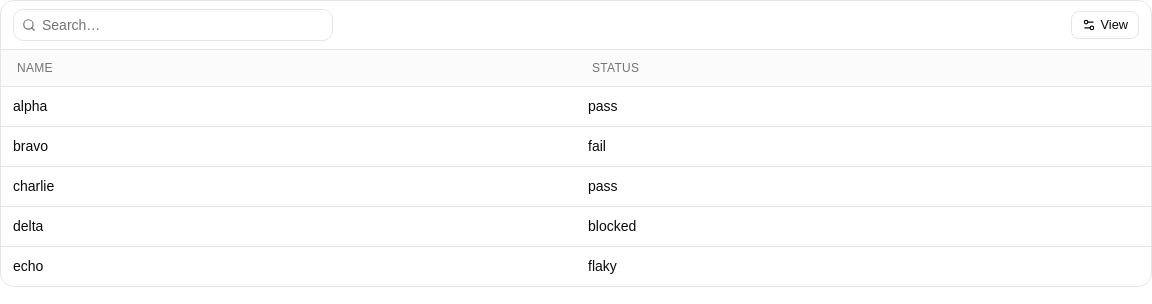
Test case: DataGrid › opens the view menu without throwing
The image size is (1152, 304).
Step 1. Click the button "View" → (1105, 25), box 1072,11 -> 1139,39
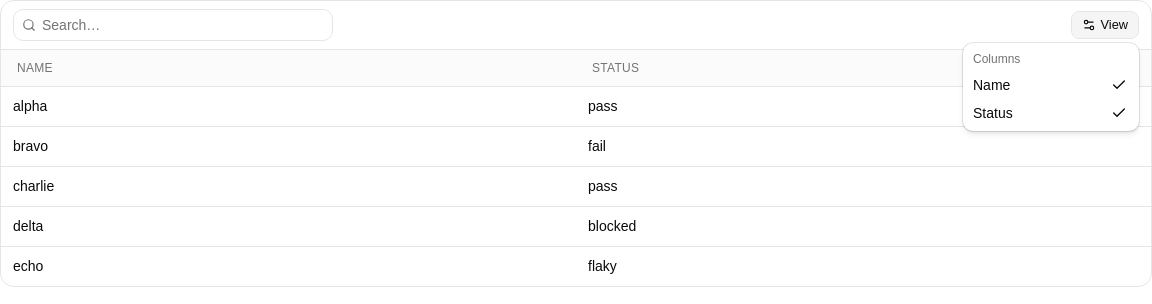
Check: the text "Columns" is shown, box 973,52 -> 1020,66
Check: the menu item "Name" is shown, box 973,77 -> 1127,93
